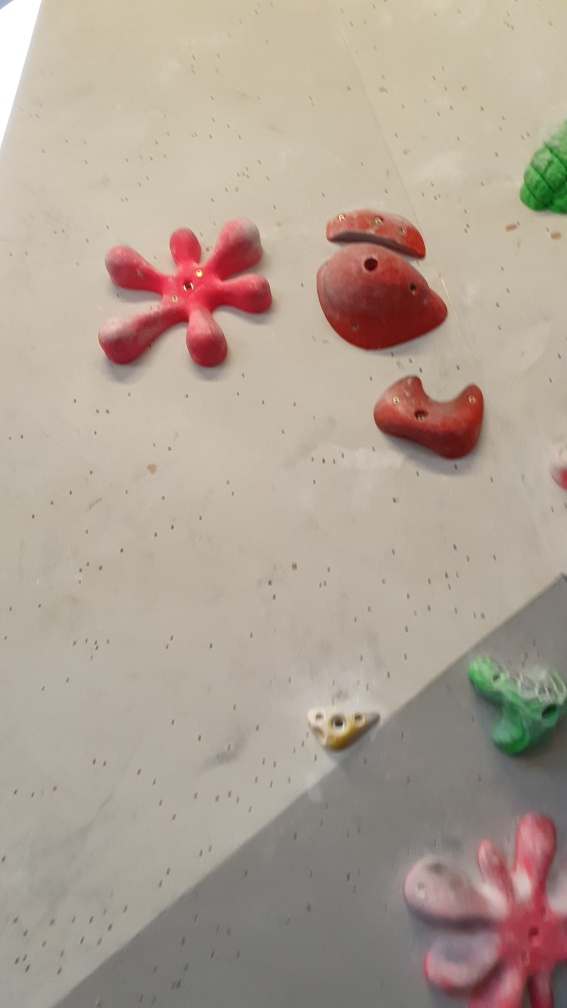Octopus Pinch: (405, 812, 567, 1007), (96, 218, 275, 371)
Sloper: (316, 241, 451, 353)
